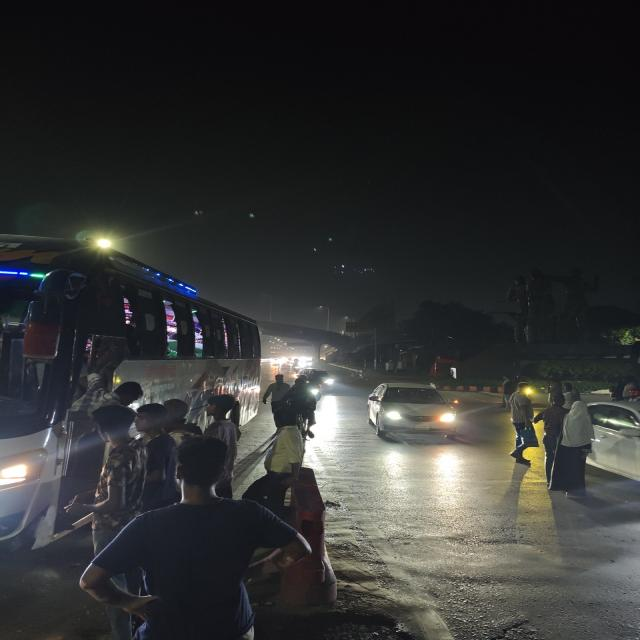bus: (2, 263, 261, 427)
car: (362, 380, 466, 446)
pedestrian: (76, 448, 308, 640), (534, 383, 603, 503), (503, 380, 538, 460), (496, 376, 516, 409)
